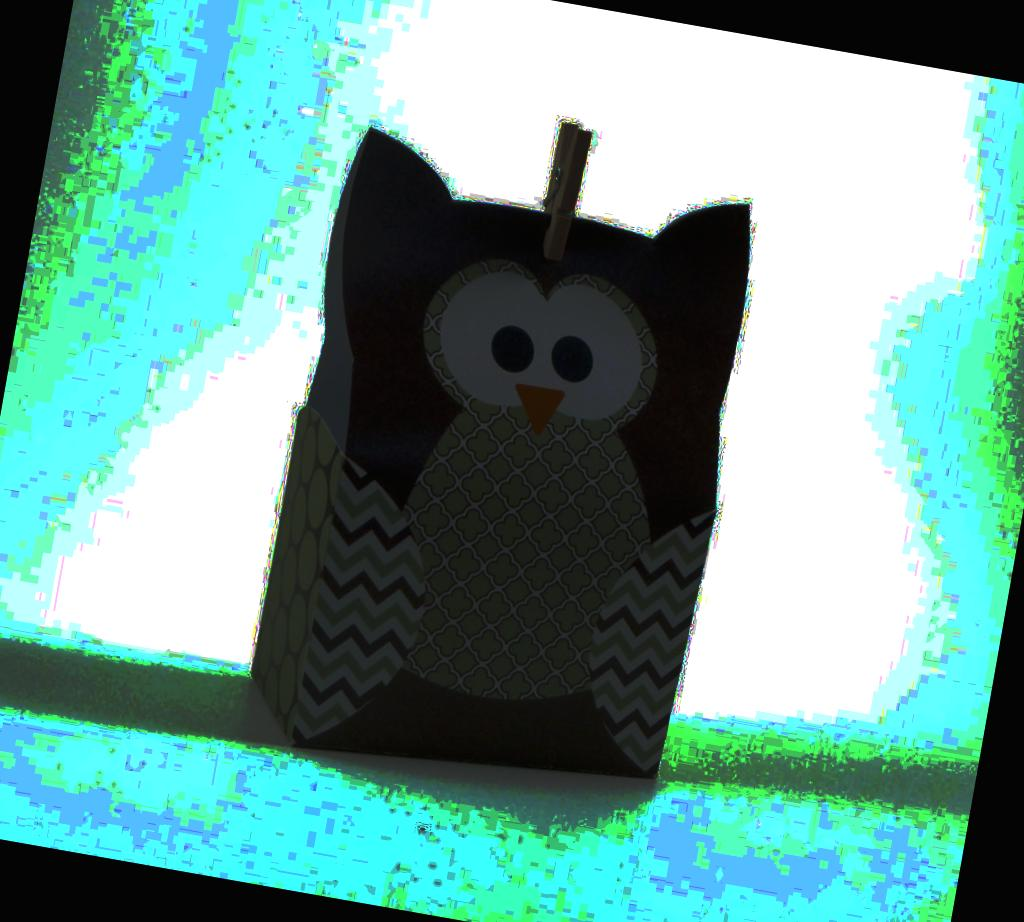Owl: (231, 129, 762, 819)
